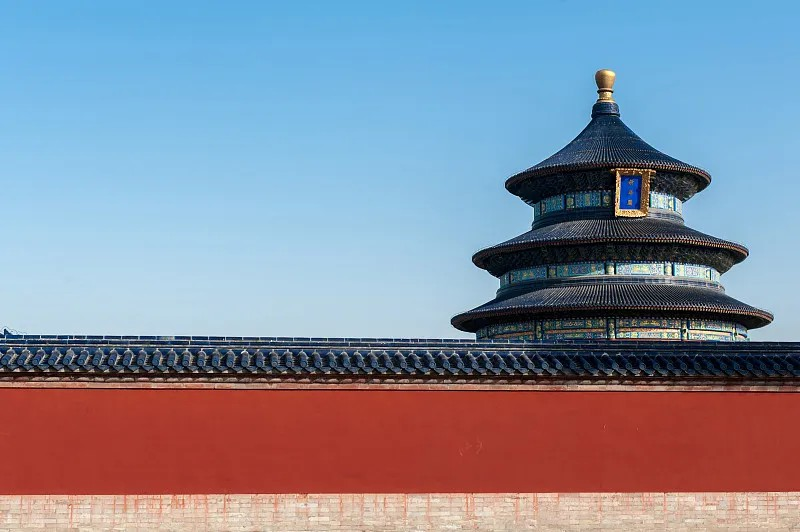Heaven: (451, 69, 774, 339)
